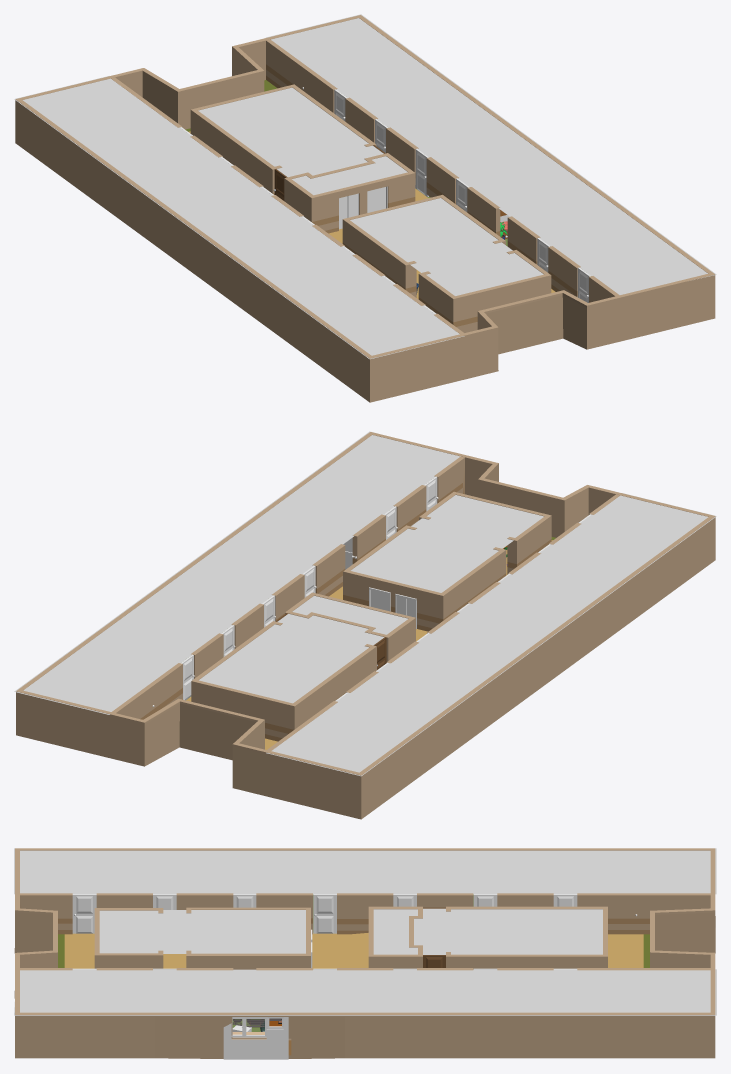
Rendered from LVL1.fbx.
3 renders of one model, top to bottom at view 1: azimuth 30°, elevation 25°; view 2: azimuth 150°, elevation 25°; view 3: azimuth 270°, elevation 25°, orthographic.
Parts seen in each view (by area): view 1: LVL1, FogPlanes.011, LVL1_layout, FogPlanes, FogPlanes.003, FogPlanes.012, FogPlanes.002, FogPlanes.001, FogPlanes.013, Elevator1; view 2: LVL1, FogPlanes.011, LVL1_layout, FogPlanes, FogPlanes.003, FogPlanes.012, FogPlanes.002, FogPlanes.001, FogPlanes.013, Elevator1.2; view 3: LVL1, FogPlanes.011, LVL1_layout, FogPlanes, FogPlanes.003, FogPlanes.012, FogPlanes.002, FogPlanes.001, RoomWall, FogPlanes.013, LVL1_doors.046, LVL1_doors.034 (+2 smaller).
Boxes of the visible parts, <box> form: LVL1: <box>15,15,715,402</box>; FogPlanes.011: <box>14,76,464,359</box>; LVL1_layout: <box>111,39,619,334</box>; FogPlanes: <box>266,14,577,195</box>; FogPlanes.003: <box>350,198,543,295</box>; FogPlanes.012: <box>517,197,716,294</box>; FogPlanes.002: <box>198,87,383,177</box>; FogPlanes.001: <box>484,172,610,219</box>; FogPlanes.013: <box>292,156,407,195</box>; Elevator1: <box>339,186,387,229</box>; LVL1: <box>16,432,715,819</box>; FogPlanes.011: <box>266,493,716,776</box>; LVL1_layout: <box>111,456,619,750</box>; FogPlanes: <box>14,533,323,714</box>; FogPlanes.003: <box>350,495,543,592</box>; FogPlanes.012: <box>264,431,460,531</box>; FogPlanes.002: <box>199,613,384,703</box>; FogPlanes.001: <box>231,509,356,556</box>; FogPlanes.013: <box>292,595,408,634</box>; Elevator1.2: <box>369,587,416,628</box>; LVL1: <box>14,848,715,1058</box>; FogPlanes.011: <box>14,848,716,894</box>; LVL1_layout: <box>20,893,710,970</box>; FogPlanes: <box>289,969,716,1015</box>; FogPlanes.003: <box>99,910,305,953</box>; FogPlanes.012: <box>14,969,223,1015</box>; FogPlanes.002: <box>414,908,602,954</box>; FogPlanes.001: <box>223,969,289,1015</box>; RoomWall: <box>223,1017,288,1059</box>; FogPlanes.013: <box>373,909,417,954</box>; LVL1_doors.046: <box>313,894,336,933</box>; LVL1_doors.034: <box>72,894,96,933</box>.
Bounding box in the file's own units: 2149 × 278 × 3813.
